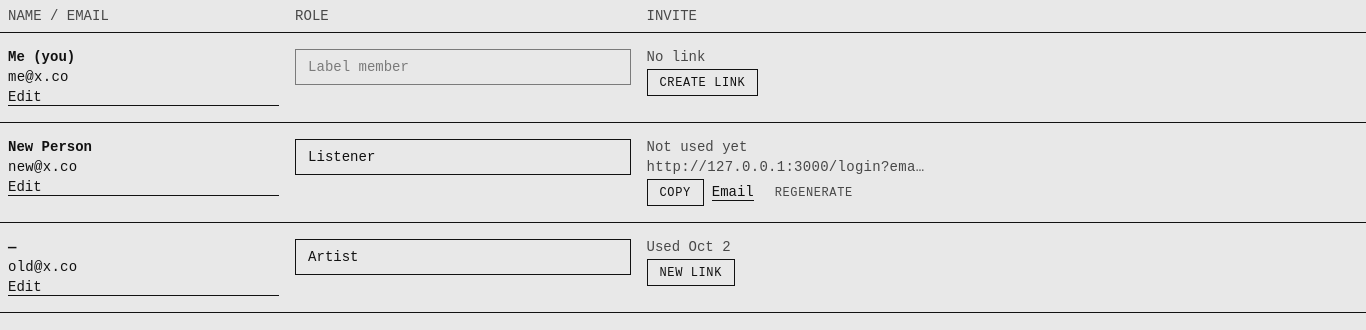
UsersTable › recovers and reverts when setUserRole throws
Select "Artist" in the dropdown named "Role for new@x.co": (463, 157) [295,139,630,175]
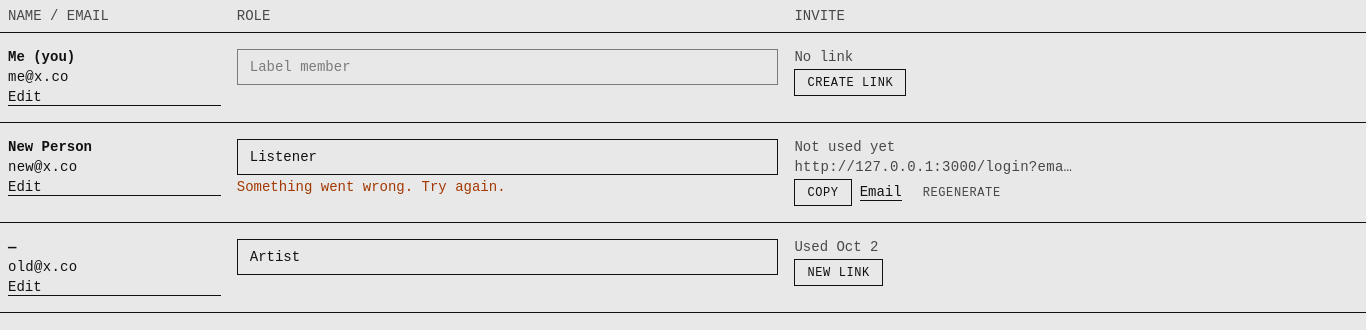
Expected: the dropdown named "Role for new@x.co" is enabled, [237,139,778,175]
Now the message shows "Something went wrong", box [237,179,506,195]
